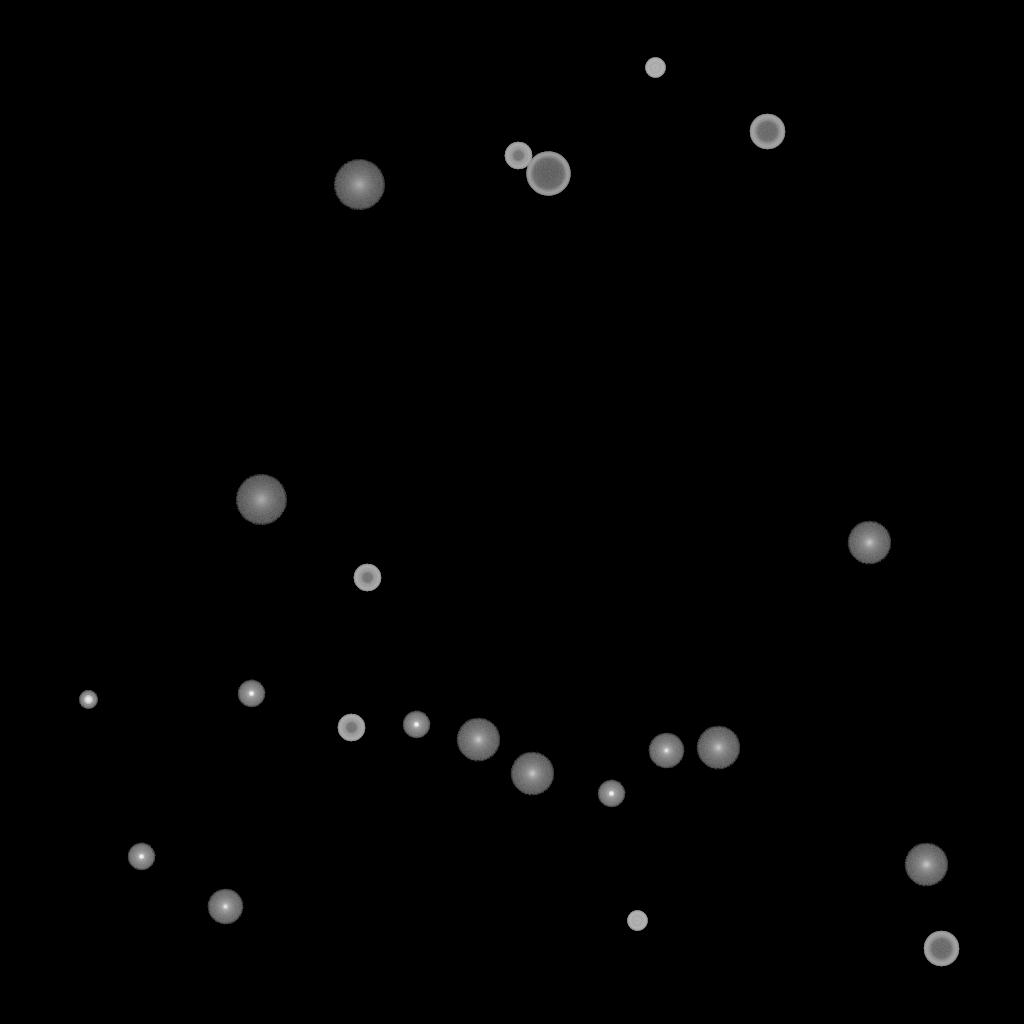depth:-10: (402, 711, 430, 739), (127, 843, 155, 871), (597, 780, 625, 808), (237, 680, 265, 708)
depth:-20: (79, 691, 97, 709)
depth:-40: (645, 58, 665, 78), (627, 911, 647, 931)
depth:-50: (504, 142, 532, 170), (337, 714, 365, 742), (353, 564, 381, 592)
depth:-60: (749, 114, 785, 150), (923, 931, 959, 967)
depth:-70: (526, 152, 570, 196)
depth:0: (648, 733, 684, 769), (207, 889, 243, 925)
depth:10: (847, 521, 891, 565), (904, 843, 948, 887), (696, 726, 740, 770), (456, 718, 500, 762), (510, 752, 554, 796)
depth:20: (235, 475, 287, 525), (333, 160, 385, 210)
